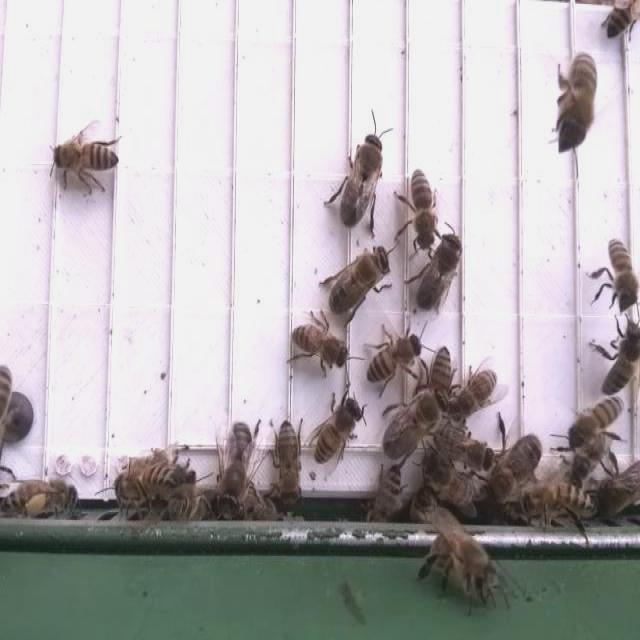Drone: (321, 103, 396, 238), (316, 240, 404, 324), (378, 386, 445, 472), (408, 228, 468, 322)
Worker: (43, 117, 131, 204), (307, 386, 368, 479), (580, 225, 640, 319), (392, 158, 438, 263), (552, 395, 629, 457), (214, 412, 256, 520), (267, 404, 308, 513), (357, 328, 430, 385), (281, 319, 351, 377), (585, 321, 640, 391)
